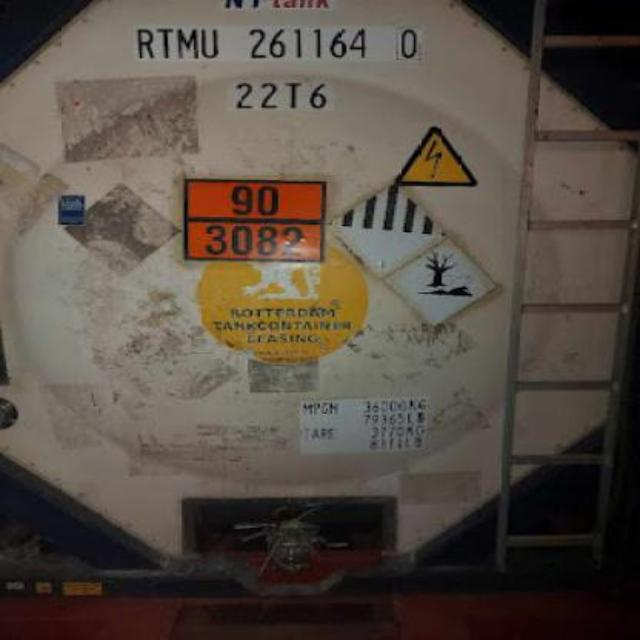0: (394, 22, 422, 62)
1: (306, 22, 326, 64), (290, 22, 306, 62)
2: (244, 20, 268, 61)
4: (350, 22, 370, 66)
6: (268, 20, 290, 64), (327, 22, 348, 66)
M: (176, 25, 198, 61)
R: (134, 21, 156, 64)
T: (152, 21, 176, 61)
U: (198, 24, 222, 64)
